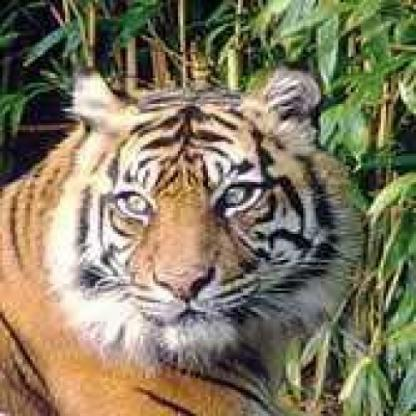Tiger: (0, 51, 363, 416)
